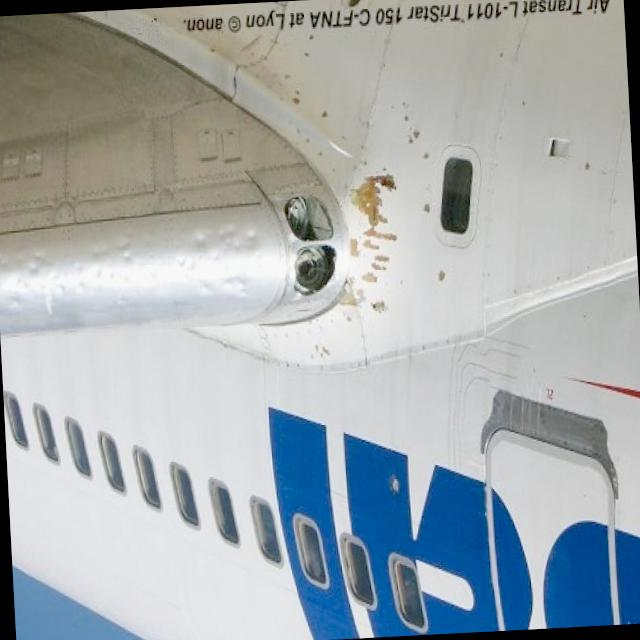dent: (0, 220, 269, 316)
